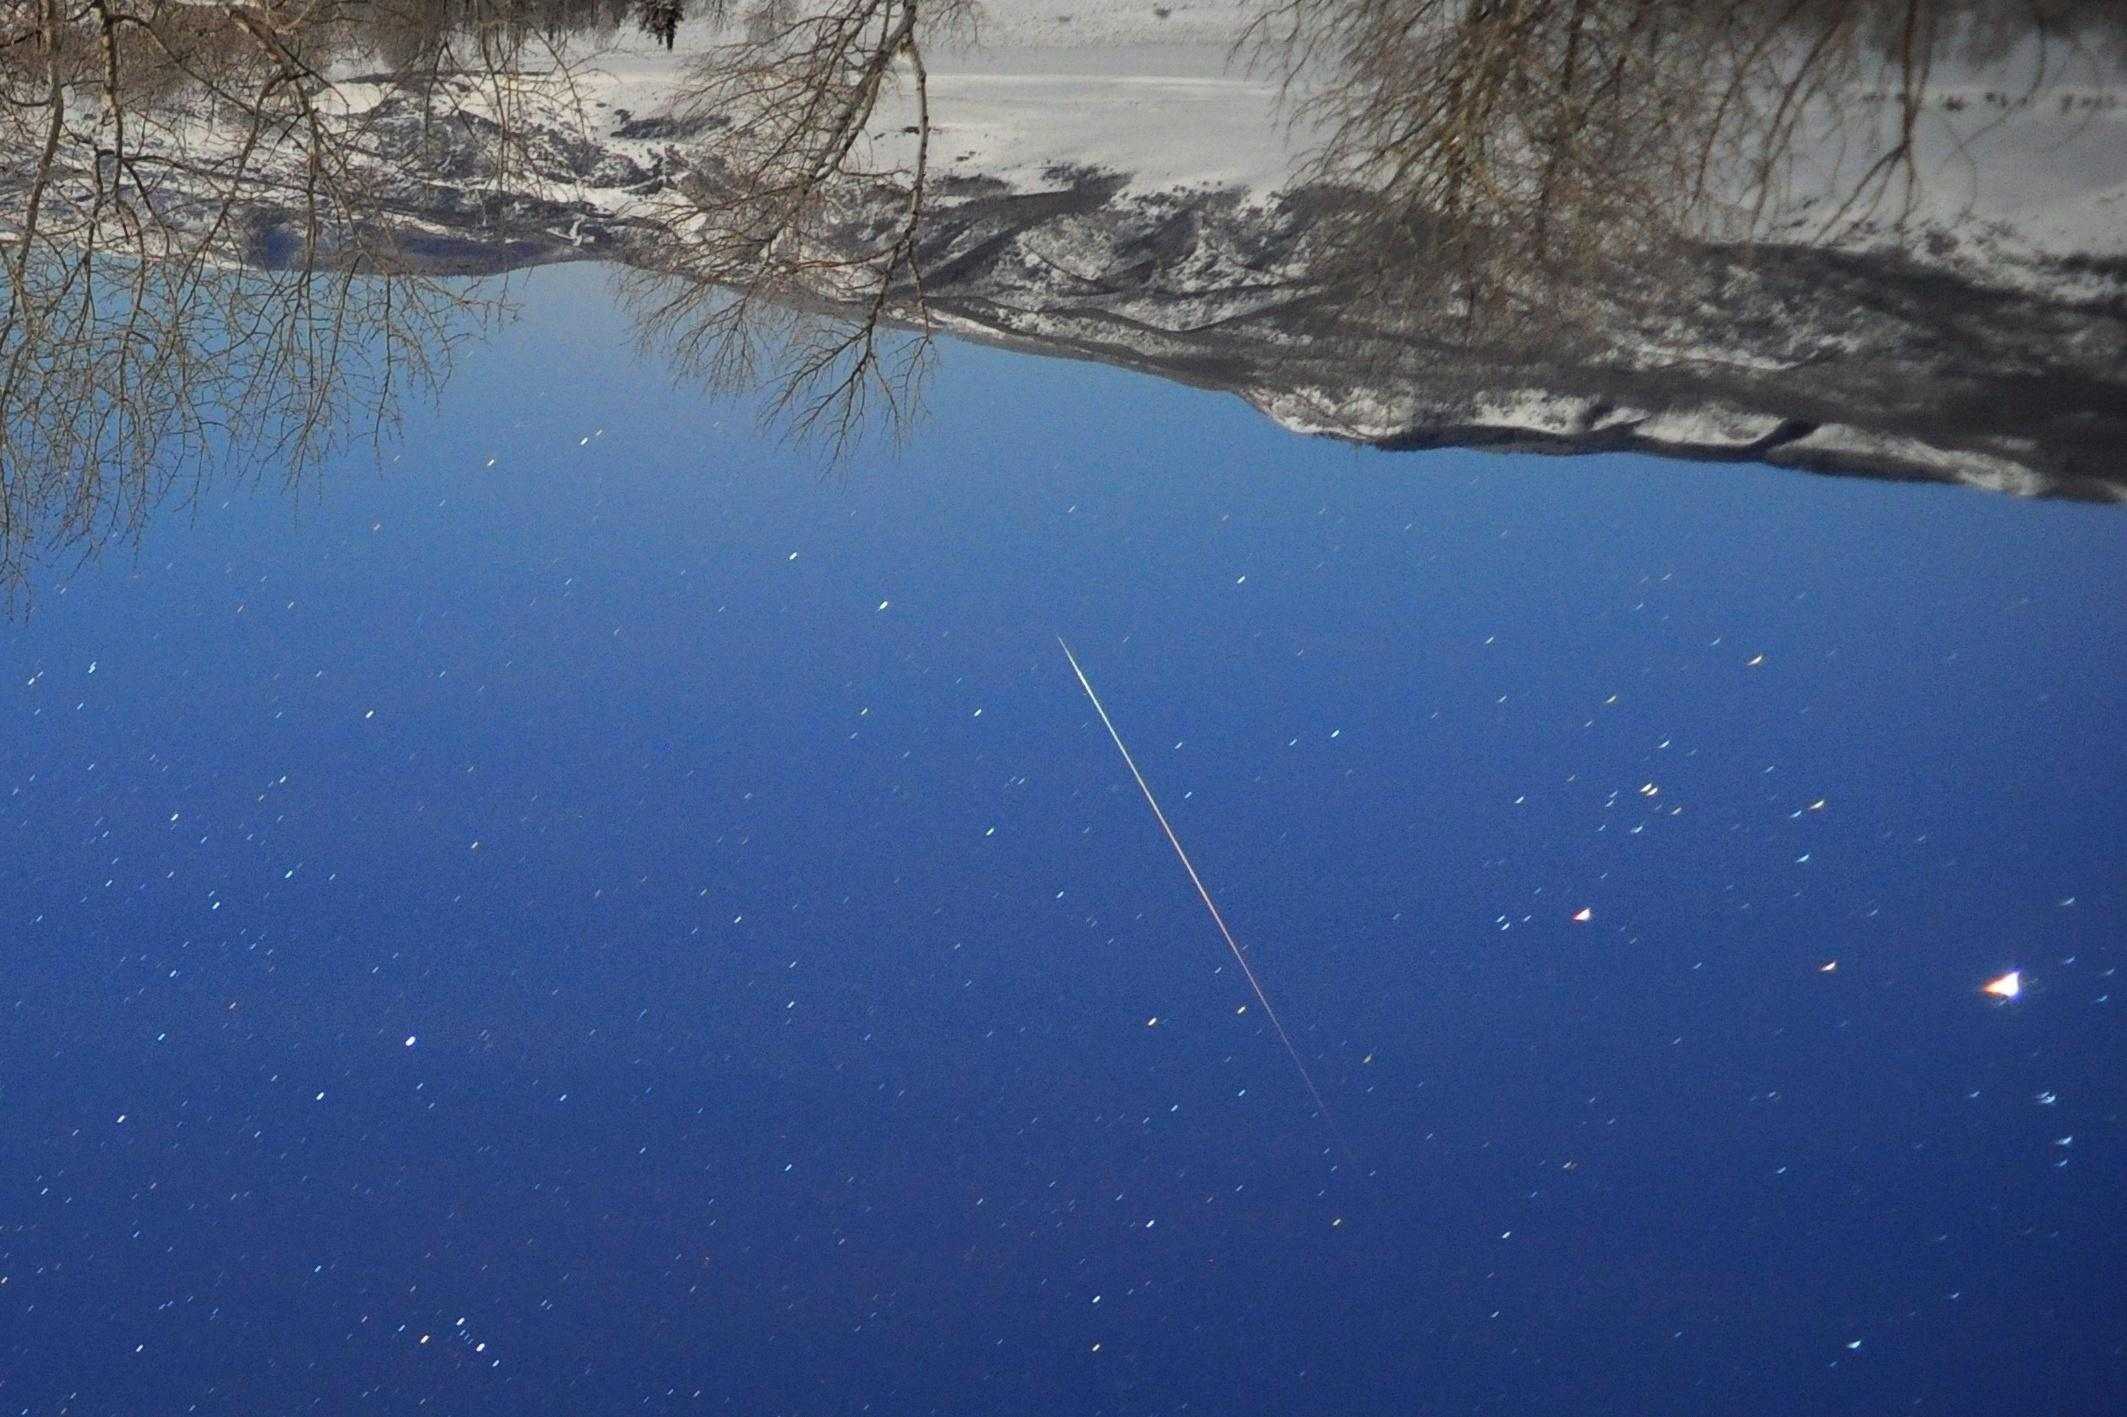meteorite: (969, 607, 1338, 1079)
